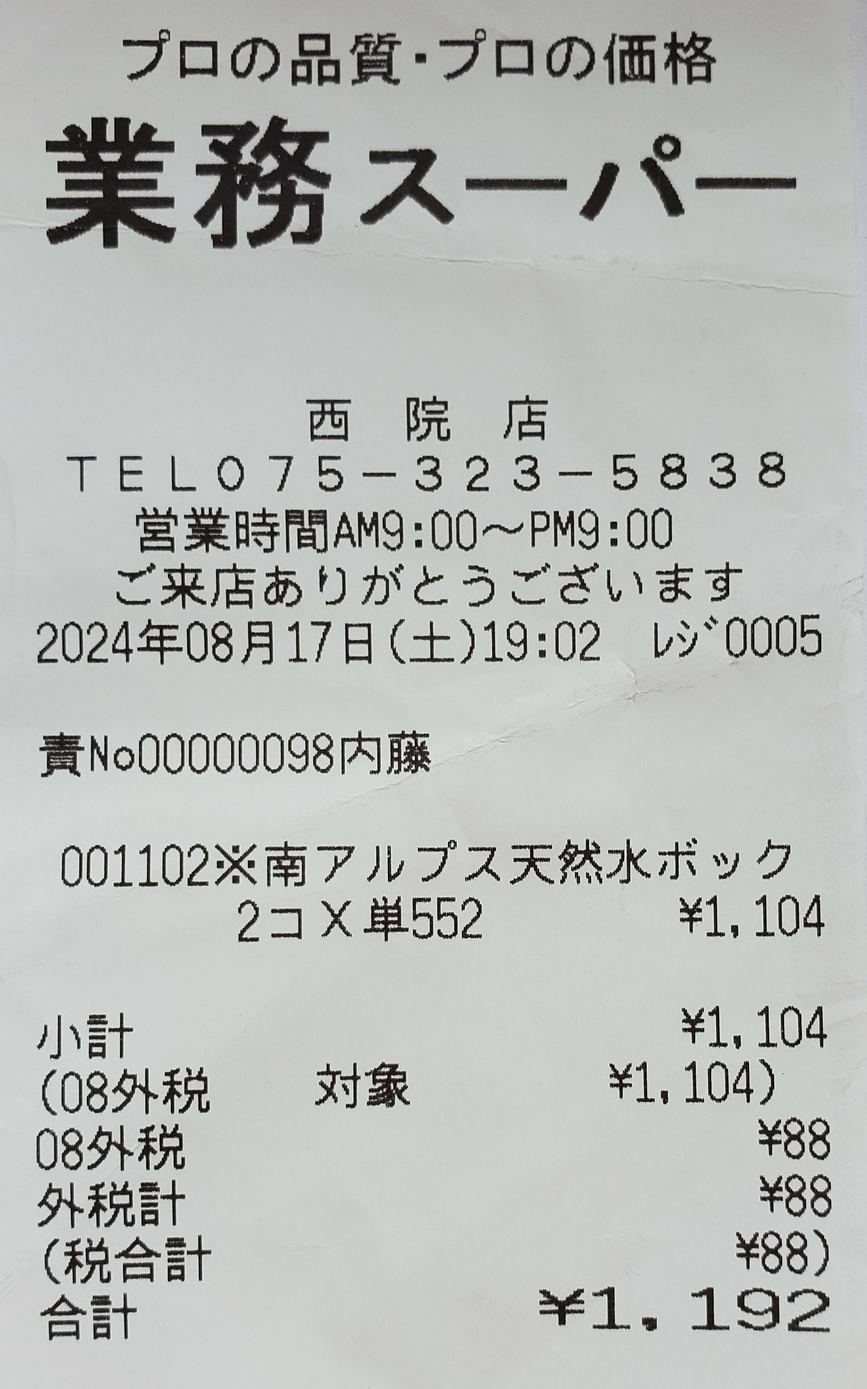Date: (28, 606, 386, 691)
Shopname: (20, 102, 830, 295)
Telnum: (215, 445, 794, 502)
Totalpay: (28, 1282, 845, 1351)
